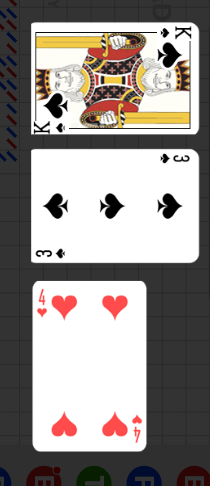3S: (34, 246, 68, 260)
4H: (130, 413, 143, 444)
KS: (156, 24, 193, 41)
